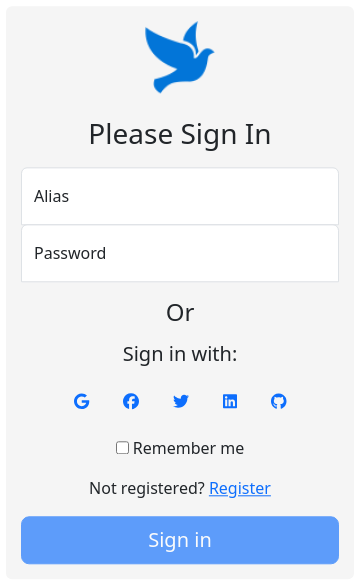
Scenario: Login Component › disables the sign-in button if either field is cleared
Type "a" into the field labelled "Alias" at (180, 196), box x1=21 y1=167 x2=339 y2=225
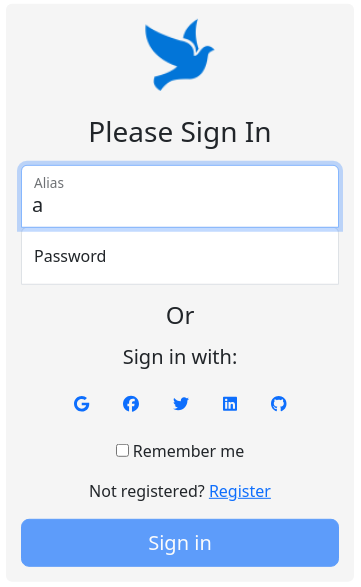
Type "b" into the password field labelled "Password" at (180, 255), box x1=21 y1=226 x2=339 y2=284
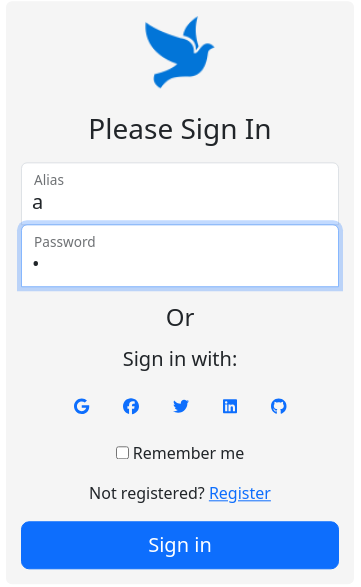
Result: the button "Sign in" is enabled at x1=21 y1=522 x2=339 y2=570
Clear the field labelled "Alias" at (180, 193), box x1=21 y1=162 x2=339 y2=225
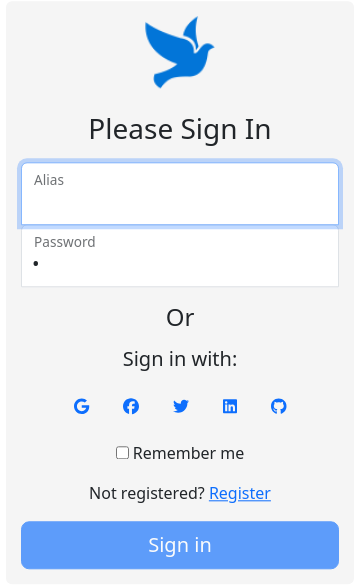
Result: the button "Sign in" is disabled at x1=21 y1=522 x2=339 y2=570
Type "c" into the field labelled "Alias" at (180, 193), box x1=21 y1=162 x2=339 y2=225
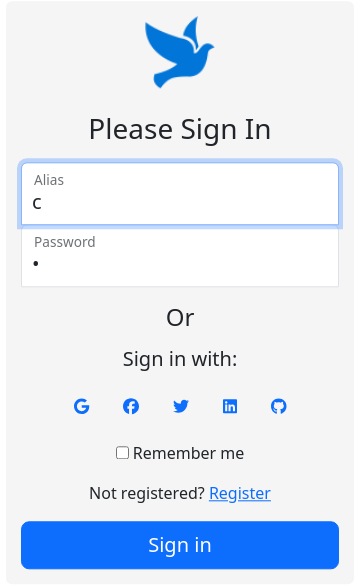
Result: the button "Sign in" is enabled at x1=21 y1=522 x2=339 y2=570
Clear the password field labelled "Password" at (180, 255), box x1=21 y1=224 x2=339 y2=287
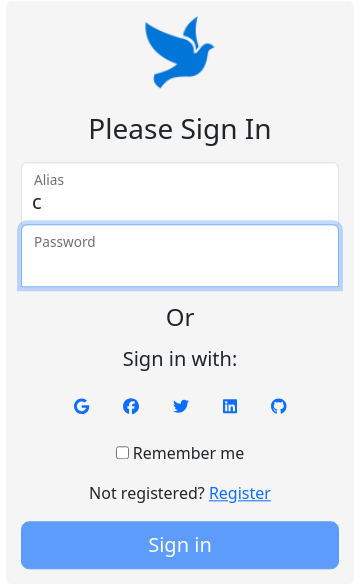
Result: the button "Sign in" is disabled at x1=21 y1=522 x2=339 y2=570
